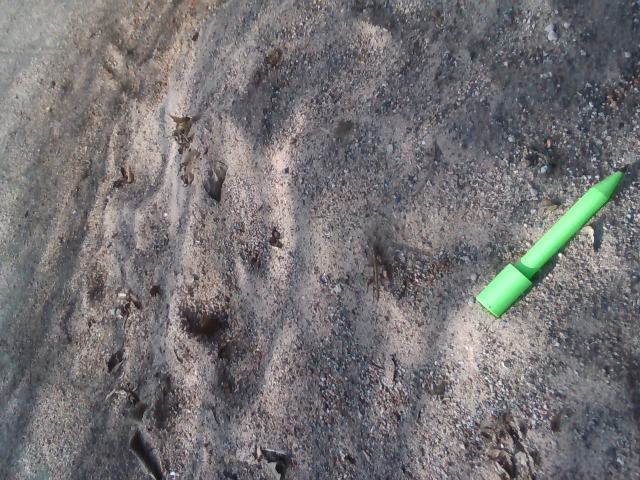Probe: (463, 159, 636, 324)
